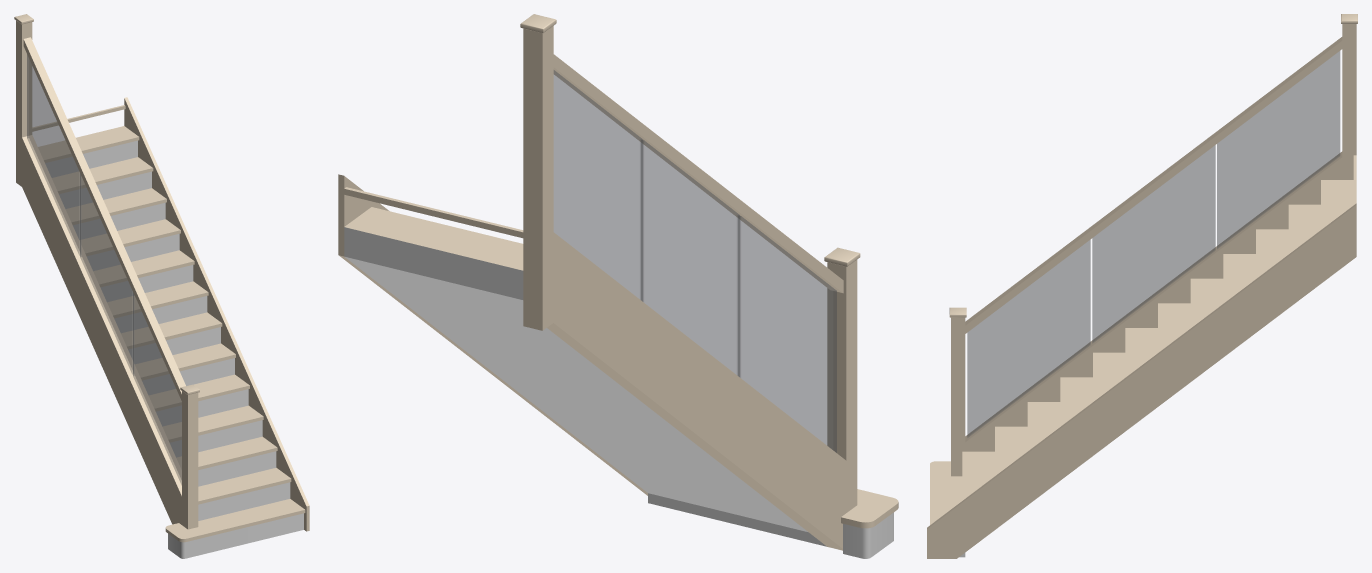
The model's file is SK02__Storey__GroundFloor__ProposedStairs__MeshModel__.glb.
The picture shows the model from 3 angles, left to right: view 1: azimuth 30°, elevation 25°; view 2: azimuth 150°, elevation 25°; view 3: azimuth 270°, elevation 25°; orthographic projection. The views are drawn at different scales.
Parts seen in each view (by area): view 1: 26__ProposedBuilding__Staircase::MAT120__Wood__TimberDefault, 26__ProposedBuilding__Staircase::Default, 26__ProposedBuilding__Staircase::MAT101__Glass__ClearDefault; view 2: 26__ProposedBuilding__Staircase::MAT120__Wood__TimberDefault, 26__ProposedBuilding__Staircase::MAT101__Glass__ClearDefault, 26__ProposedBuilding__Staircase::Default; view 3: 26__ProposedBuilding__Staircase::MAT120__Wood__TimberDefault, 26__ProposedBuilding__Staircase::MAT101__Glass__ClearDefault.
Part boxes in pixels (x1,y1,x2,y2): 26__ProposedBuilding__Staircase::MAT120__Wood__TimberDefault: [14, 14, 309, 542]; 26__ProposedBuilding__Staircase::Default: [45, 140, 303, 558]; 26__ProposedBuilding__Staircase::MAT101__Glass__ClearDefault: [27, 54, 181, 484]; 26__ProposedBuilding__Staircase::MAT120__Wood__TimberDefault: [338, 14, 898, 550]; 26__ProposedBuilding__Staircase::MAT101__Glass__ClearDefault: [553, 70, 836, 452]; 26__ProposedBuilding__Staircase::Default: [344, 227, 893, 558]; 26__ProposedBuilding__Staircase::MAT120__Wood__TimberDefault: [927, 14, 1357, 558]; 26__ProposedBuilding__Staircase::MAT101__Glass__ClearDefault: [967, 51, 1340, 437].
Bounding box in the file's own units: 1.22 × 3.74 × 3.04.
